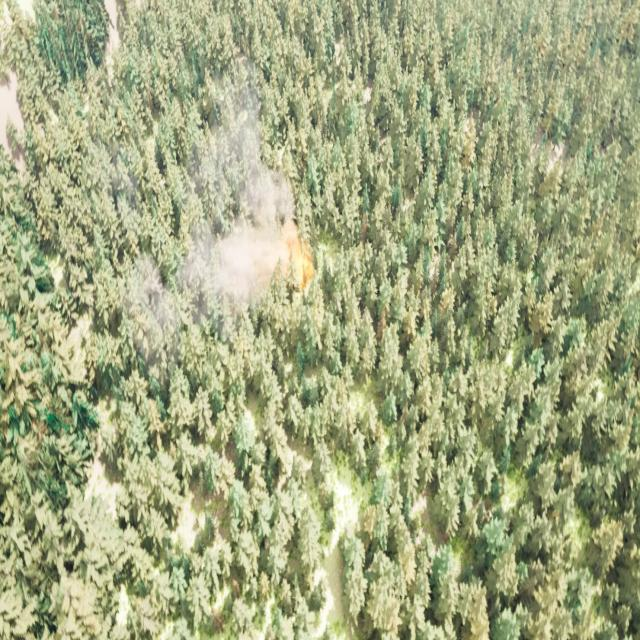fire: (292, 231, 320, 291)
smoke: (105, 64, 298, 346)
